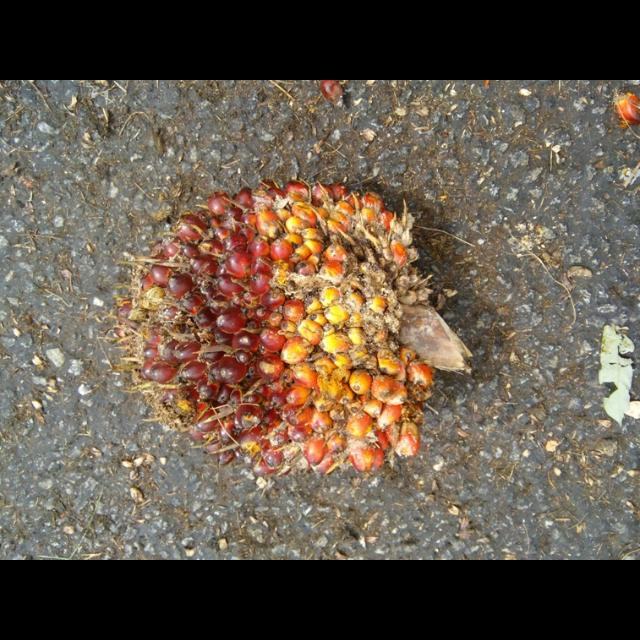Ripe: (115, 175, 451, 486)
